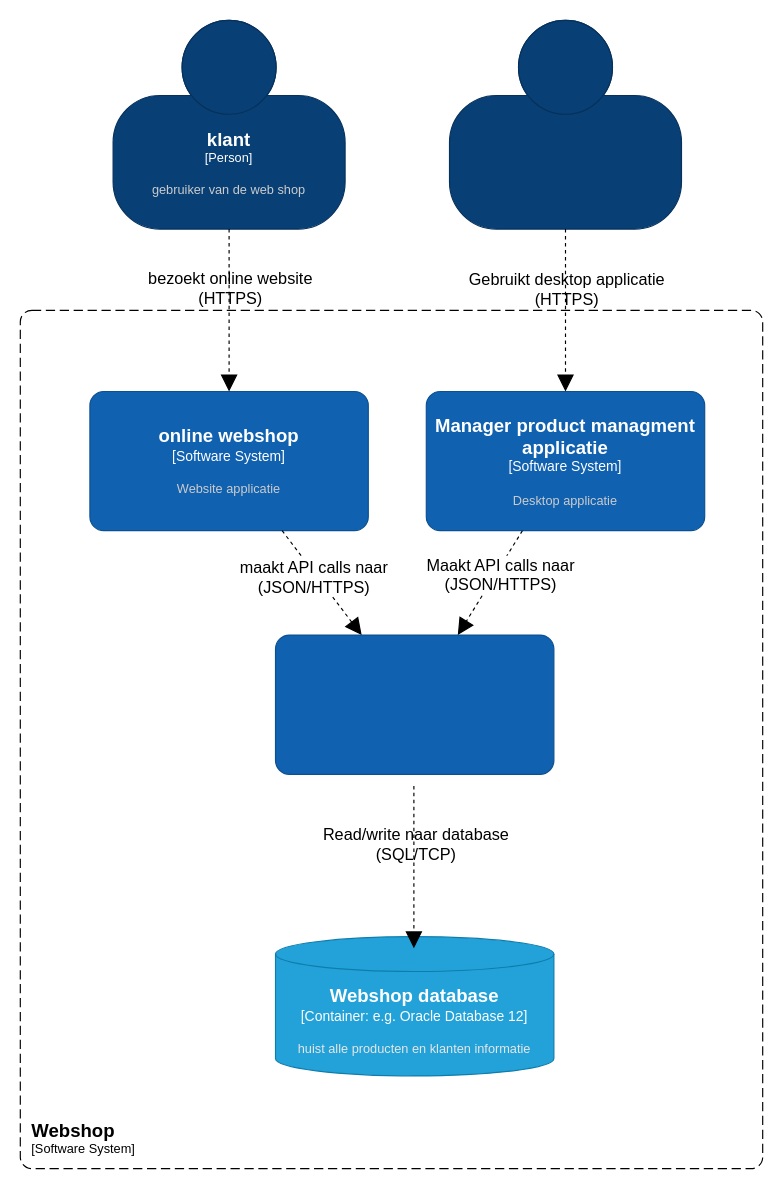
Some shapes in this 783 by 1189 pixel diagram are drawn without their labels. The centre of each missing label's shape, as x and y in pixels:
Manager [Person] Persoon die producten kan veranderen: [565,124]
webshop api [Software System] handelt alles voor de applicatie: [414,704]
